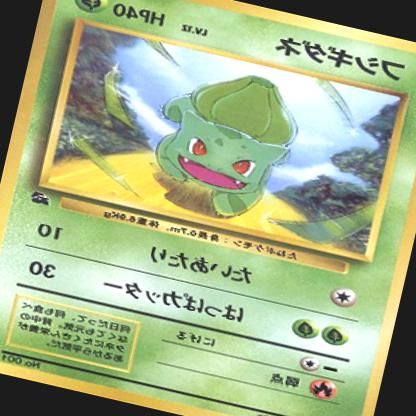Bulbasaur: (144, 55, 318, 234)
